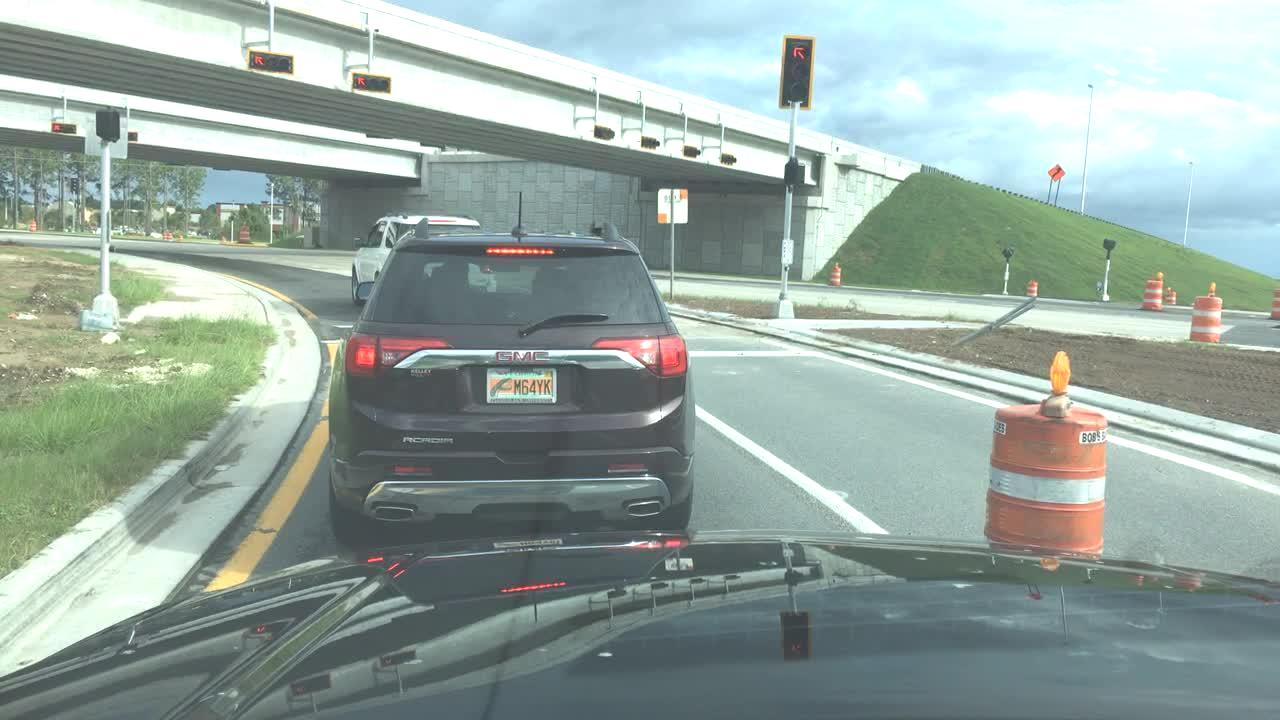GMC: (494, 348, 555, 367)
